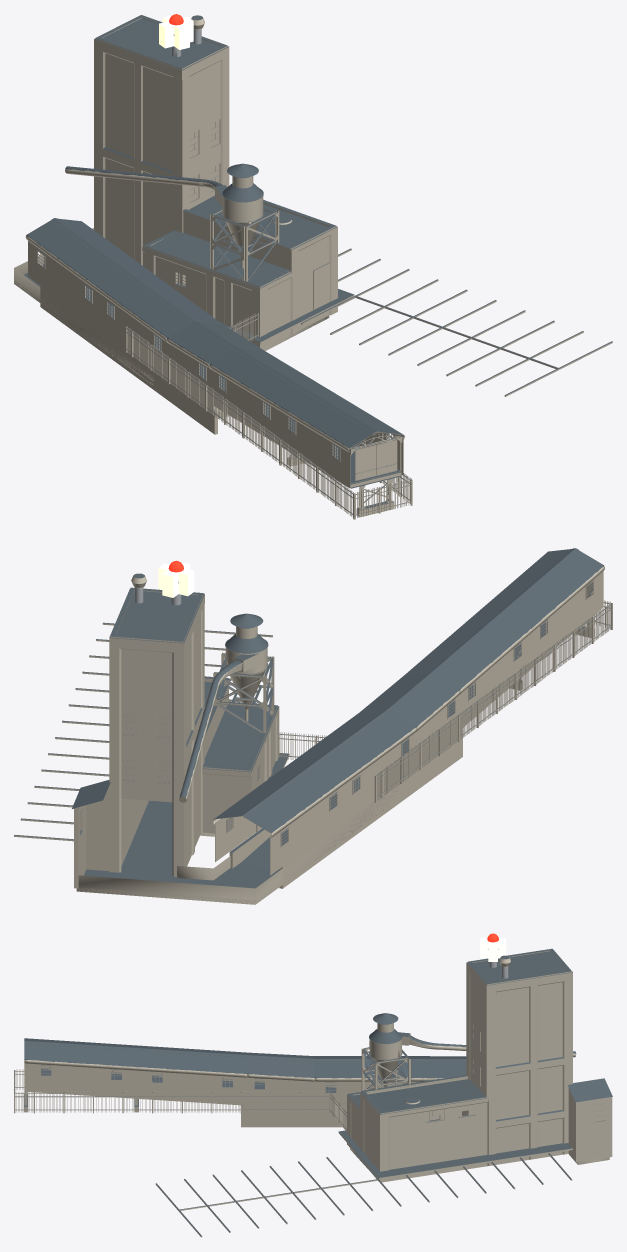
Rendered from sf-grain.glb.
3 renders of one model, top to bottom at view 1: azimuth 30°, elevation 25°; view 2: azimuth 150°, elevation 25°; view 3: azimuth 270°, elevation 25°, orthographic. The views are drawn at different scales.
Parts seen in each view (by area): view 1: GrainTerminal, NightLights; view 2: GrainTerminal, NightLights; view 3: GrainTerminal, NightLights.
Part boxes in pixels (x1,y1,x2,y2): GrainTerminal: (14, 15, 612, 519); NightLights: (159, 15, 193, 49); GrainTerminal: (14, 548, 612, 904); NightLights: (158, 562, 194, 597); GrainTerminal: (14, 948, 612, 1237); NightLights: (480, 934, 506, 961).
Bounding box in the file's own units: 93.83 × 65.64 × 162.
